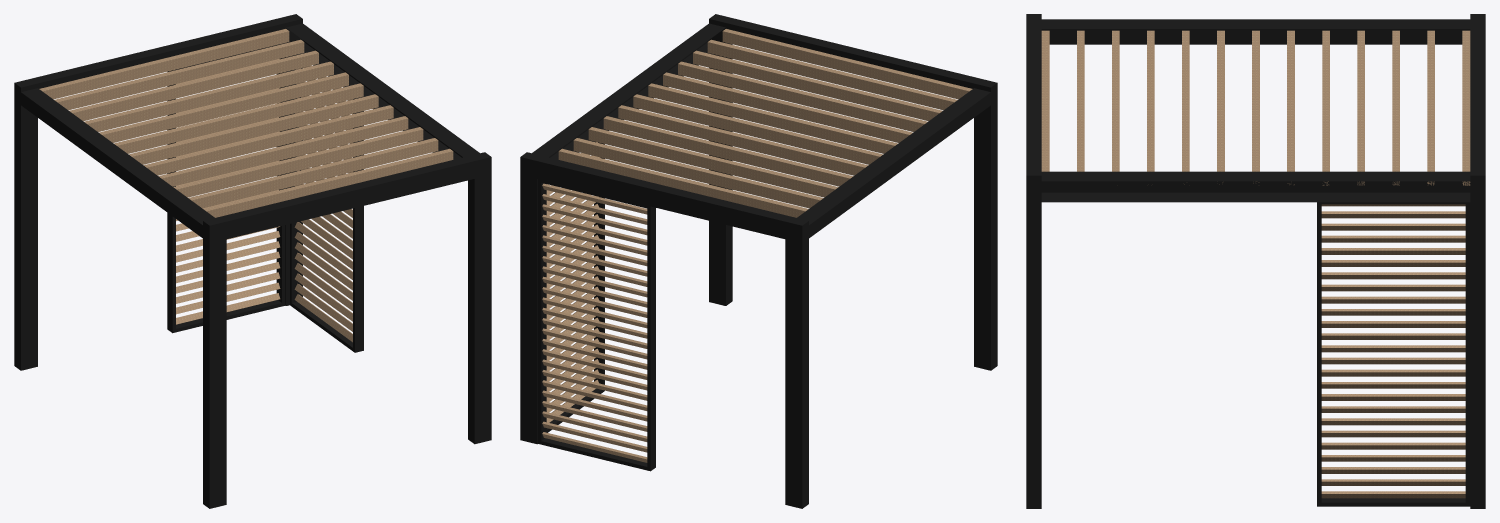
File: MODERN PERGOLA.glb
3 renders of one model, left to right at view 1: azimuth 30°, elevation 25°; view 2: azimuth 150°, elevation 25°; view 3: azimuth 270°, elevation 25°, orthographic. The views are drawn at different scales.
Visible parts, largest first — view 1: Wood (×12), Steel+pergola+12'x16', PERGOLA OP.2; view 2: Wood (×12), Steel+pergola+12'x16', PERGOLA OP.2; view 3: Steel+pergola+12'x16', PERGOLA OP.2, Wood (×13).
Part boxes in pixels (x1,y1,x2,y2): Wood (×12): (39, 29, 453, 217); Steel+pergola+12'x16': (14, 14, 491, 508); PERGOLA OP.2: (167, 43, 363, 352); Wood (×12): (558, 29, 972, 217); Steel+pergola+12'x16': (520, 14, 997, 508); PERGOLA OP.2: (538, 133, 655, 471); Steel+pergola+12'x16': (1026, 14, 1485, 508); PERGOLA OP.2: (1317, 194, 1470, 506); Wood (×13): (1041, 30, 1470, 185).
Size of the model in its own units: 2.5 by 2.4 by 3.
Materials: 2 (1 with a texture image).
